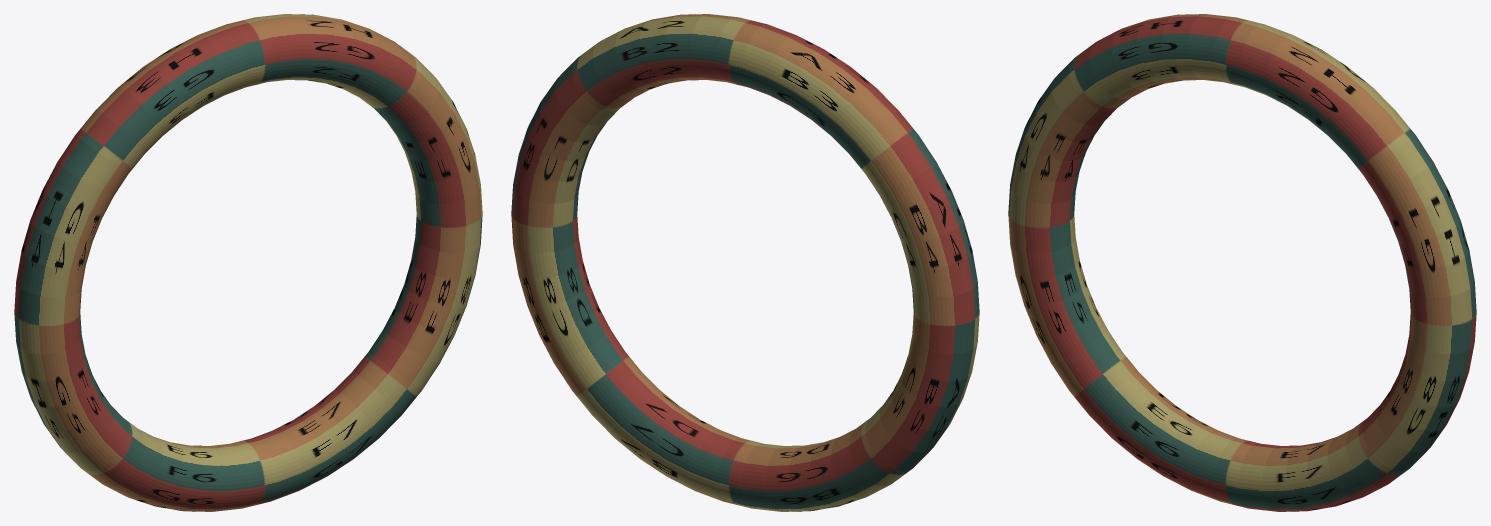
File: texture_torus_R23_r6.glb
The picture shows the model from 3 angles, left to right: view 1: azimuth 30°, elevation 25°; view 2: azimuth 150°, elevation 25°; view 3: azimuth 330°, elevation 25°; orthographic projection.
Parts seen in each view (by area): view 1: world; view 2: world; view 3: world.
Part boxes in pixels (<box>): world: <box>14,14,482,511</box>; world: <box>511,14,979,511</box>; world: <box>1008,14,1476,511</box>.
Size of the model in its own units: 28.93 by 28.88 by 3.59.
1 material, 1 textured.
